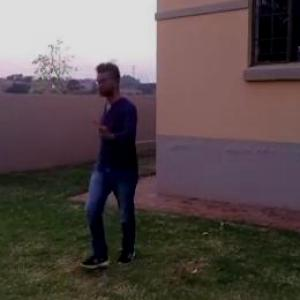takeoff-hand: (85, 111, 113, 137)
